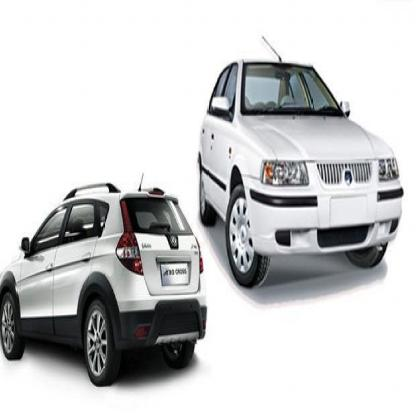Car: (188, 43, 412, 281), (0, 176, 207, 404)
